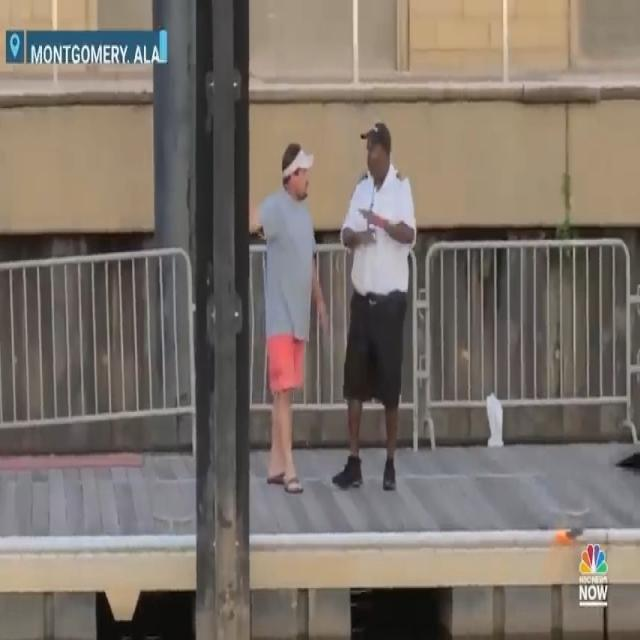non-fight: (248, 100, 416, 500)
